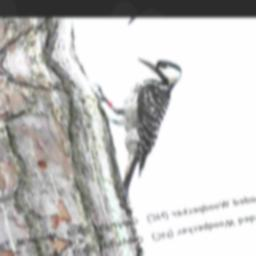Woodpecker: (84, 50, 218, 207)
